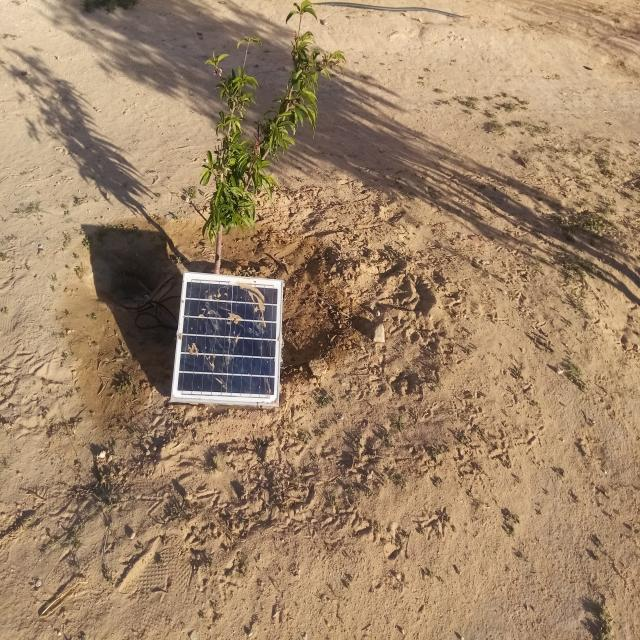faulty: (171, 271, 283, 406)
